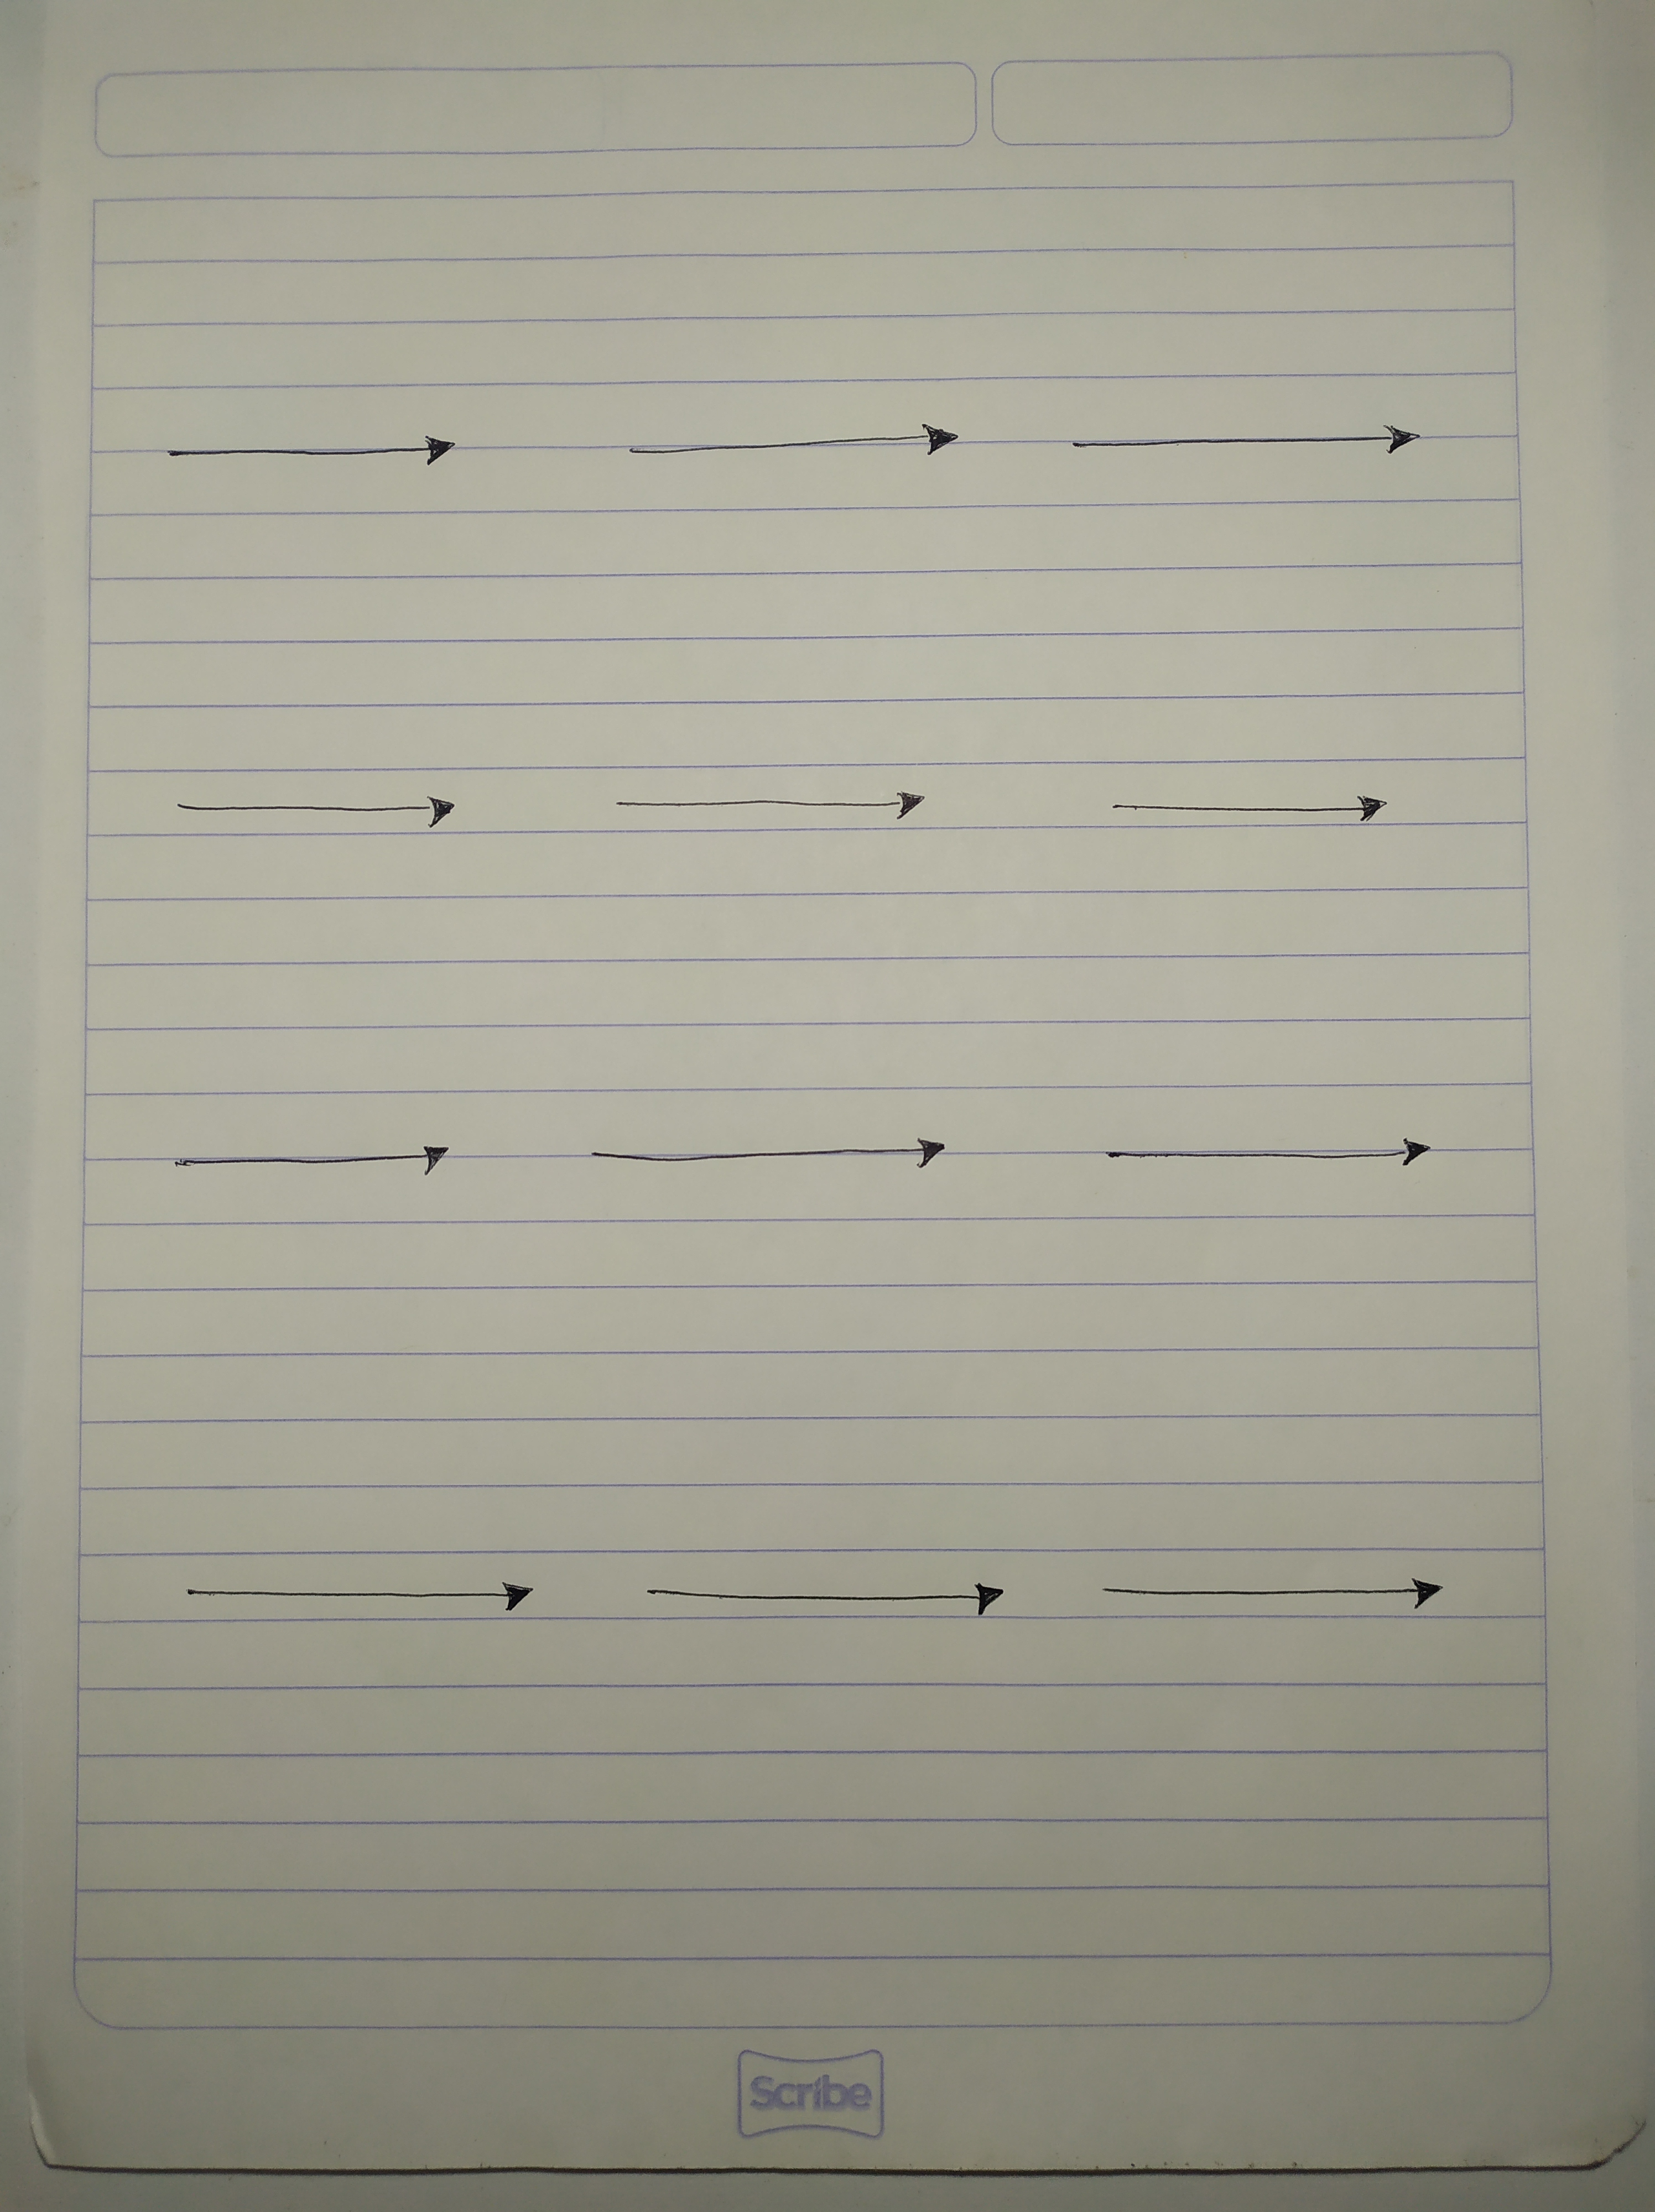arrow_line_right: (589, 403, 982, 514), (123, 398, 506, 509), (563, 1116, 980, 1211), (1067, 1112, 1448, 1216), (158, 1546, 553, 1642), (607, 1557, 1015, 1649), (1036, 412, 1452, 493), (567, 770, 934, 860), (1081, 765, 1405, 857), (148, 772, 490, 855), (1081, 1564, 1467, 1635), (146, 1119, 473, 1201)
